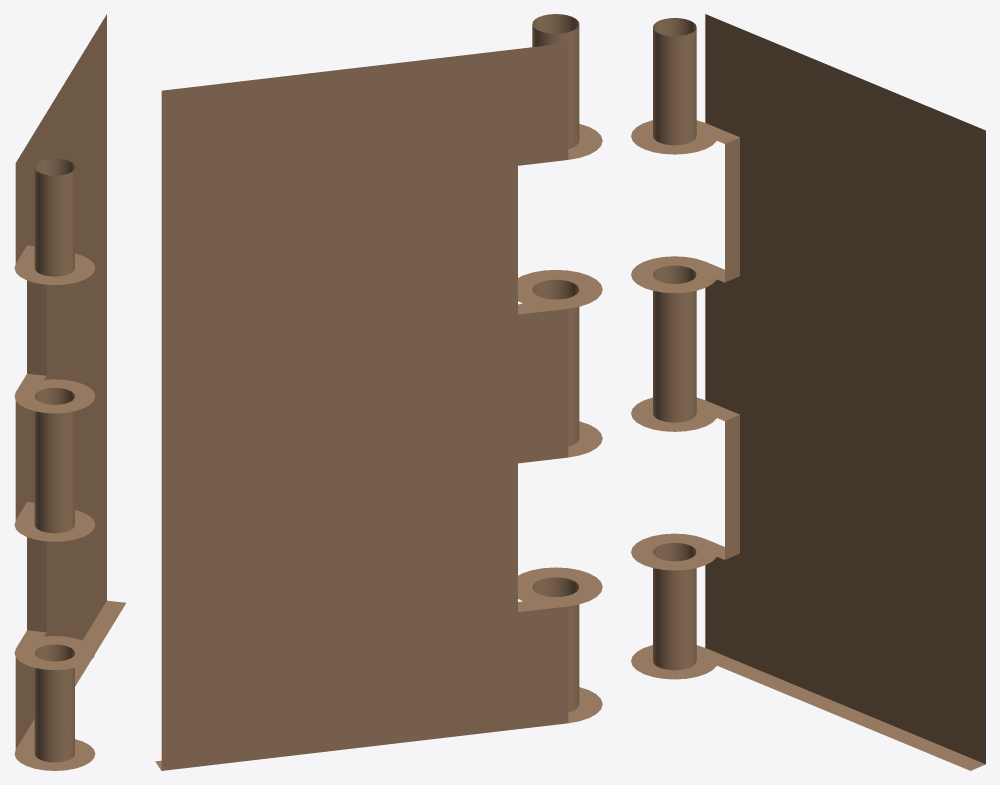
The model's file is original-50.obj.
3 views of the same model, side by side, from view 1: azimuth 30°, elevation 25°; view 2: azimuth 150°, elevation 25°; view 3: azimuth 270°, elevation 25° (orthographic). The views are drawn at different scales.
Parts seen in each view (by area): view 1: Hinge_-_Female1/Hinge_-_Female/mesh22/mesh22-geometry/material_0; view 2: Hinge_-_Female1/Hinge_-_Female/mesh22/mesh22-geometry/material_0; view 3: Hinge_-_Female1/Hinge_-_Female/mesh22/mesh22-geometry/material_0.
Boxes of the visible parts, x1=… form: Hinge_-_Female1/Hinge_-_Female/mesh22/mesh22-geometry/material_0: x1=14, y1=14, x2=125, y2=770; Hinge_-_Female1/Hinge_-_Female/mesh22/mesh22-geometry/material_0: x1=155, y1=14, x2=602, y2=770; Hinge_-_Female1/Hinge_-_Female/mesh22/mesh22-geometry/material_0: x1=631, y1=14, x2=985, y2=770.
Bounding box in the file's own units: 0.062 × 0.1427 × 0.0724.
